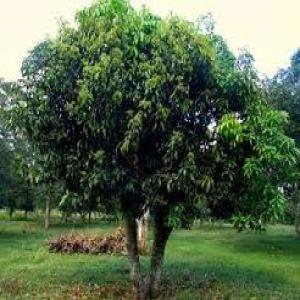Tree: (11, 2, 295, 292)
